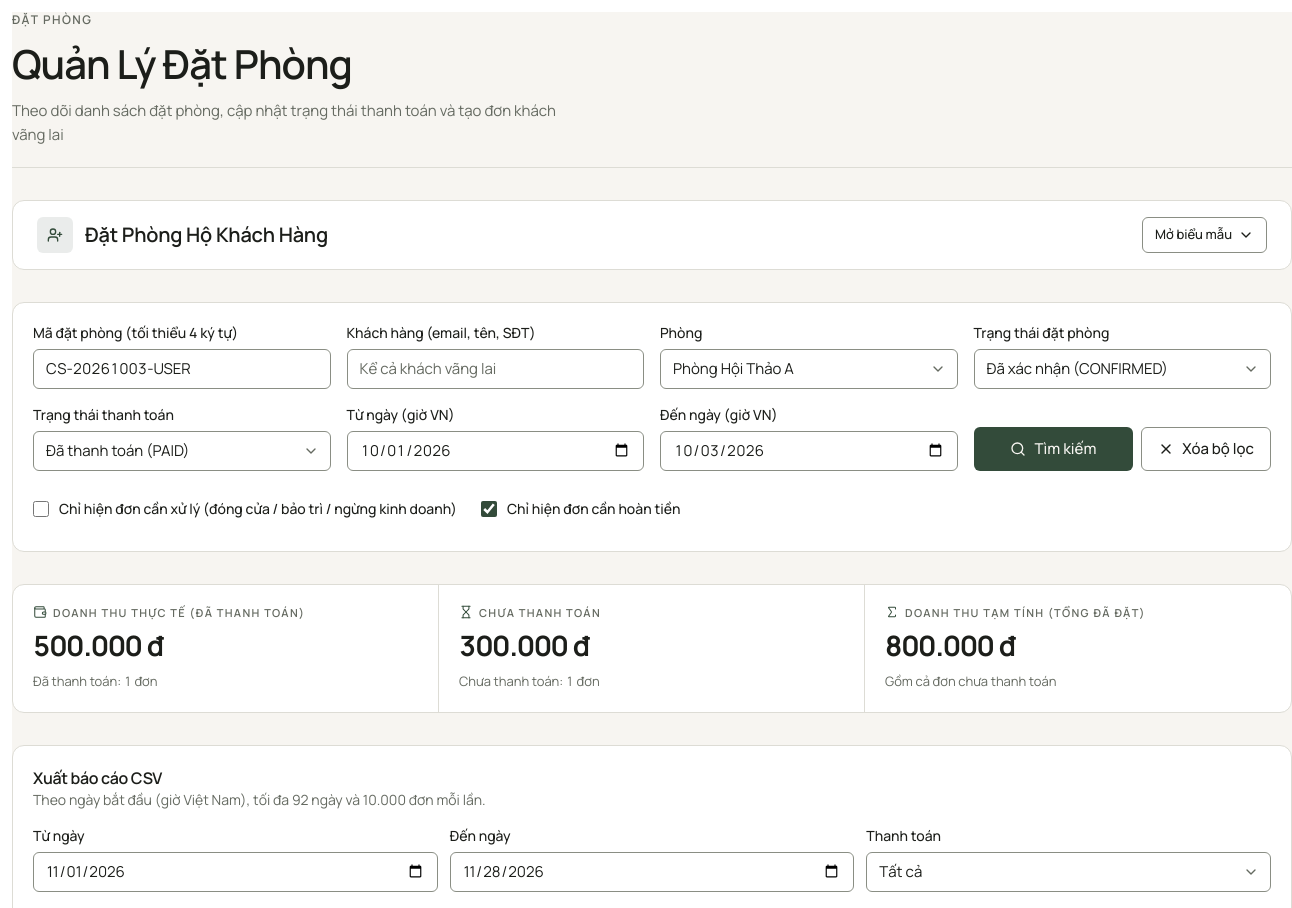
Scenario: AdminBookingsPage - Booking Management & Search › clears all filters when "Xóa bộ lọc" is clicked
Click the button with test id "clear-filters-btn".
click(1206, 449)  # box [1141,427,1271,471]
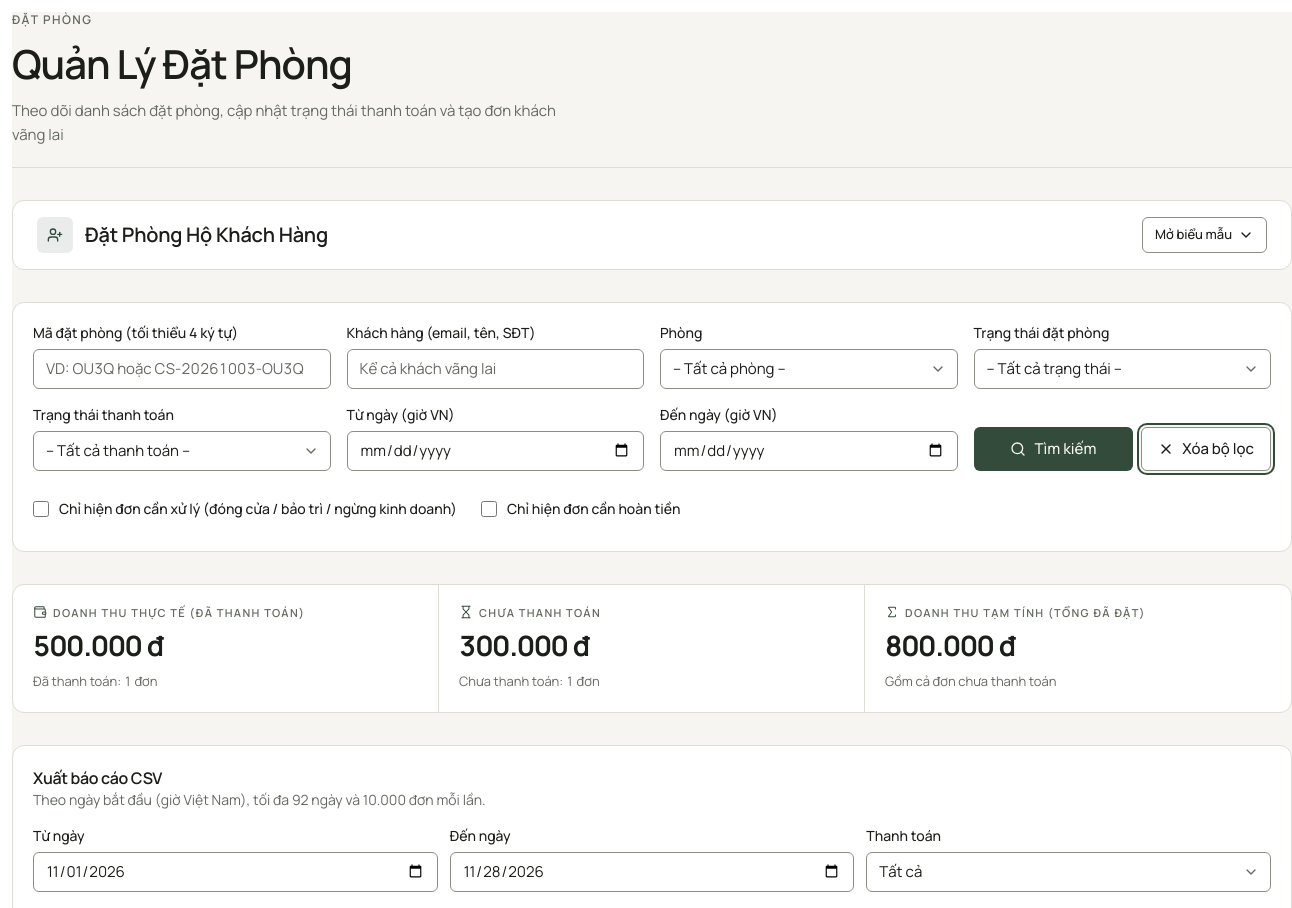
Result: the checkbox with test id "filter-needs-refund" is not checked at [481,501,497,517]
